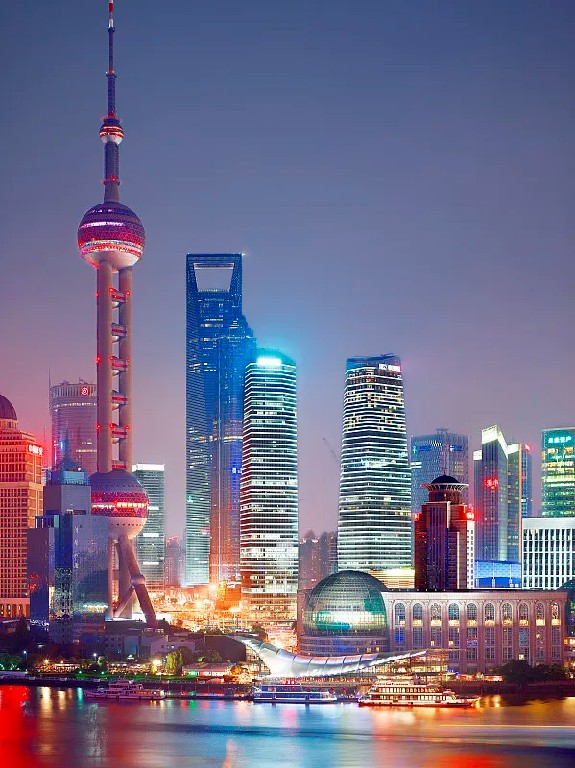Oriental: (78, 1, 159, 623)
